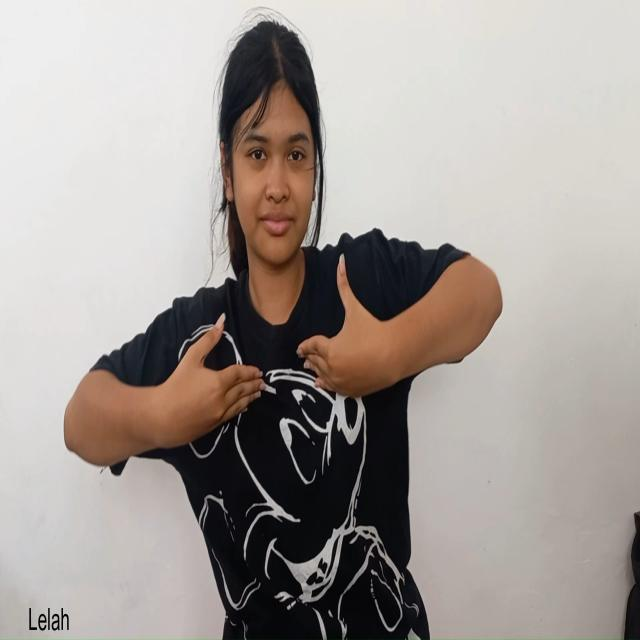Lelah -BISINDO-: (57, 252, 525, 489)
